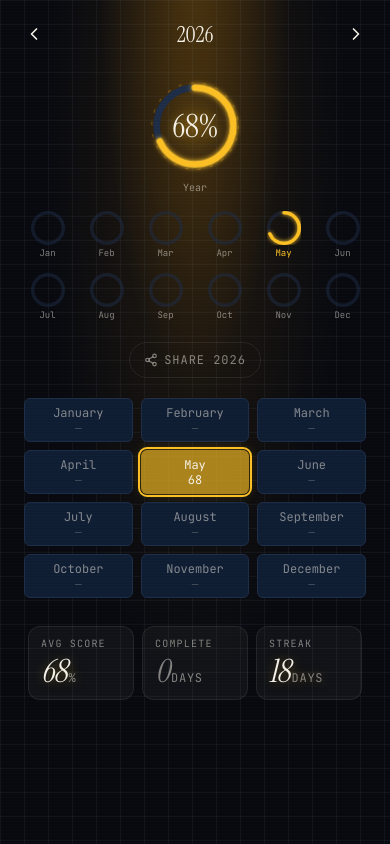
C-m9e-003: YearView — prev/next year nav updates year label + cells + aggregate › prev once then next twice shows '2027' with all no-data cells
The image size is (390, 844).
Start at 2026, go back to 2025, then forward twice to 2027
Click the button named "previous year". click: x=34, y=34
box: left=12, top=12, right=56, bottom=56
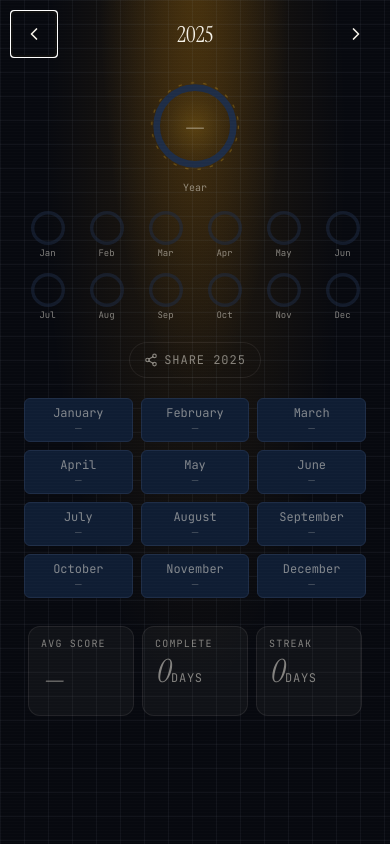
Click the button named "next year". click: x=356, y=34
box: left=334, top=12, right=378, bottom=56
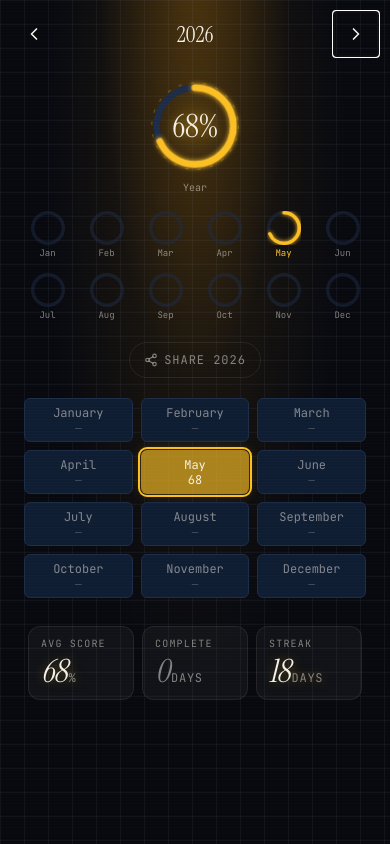
Click the button named "next year". click: x=356, y=34
box: left=334, top=12, right=378, bottom=56
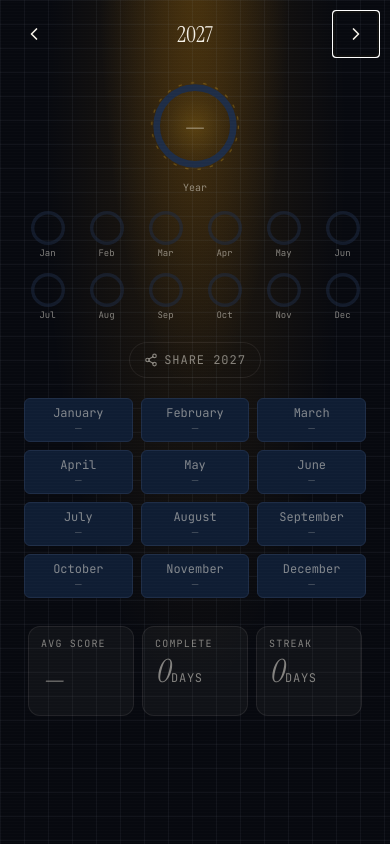
Check: the button with aria-label "January 2027, no data" is shown, box left=24, top=398, right=133, bottom=442
Check: the heading reads "2027", box left=177, top=20, right=213, bottom=48
Check: the list named "Months of 2027" is shown, box left=12, top=386, right=378, bottom=610
